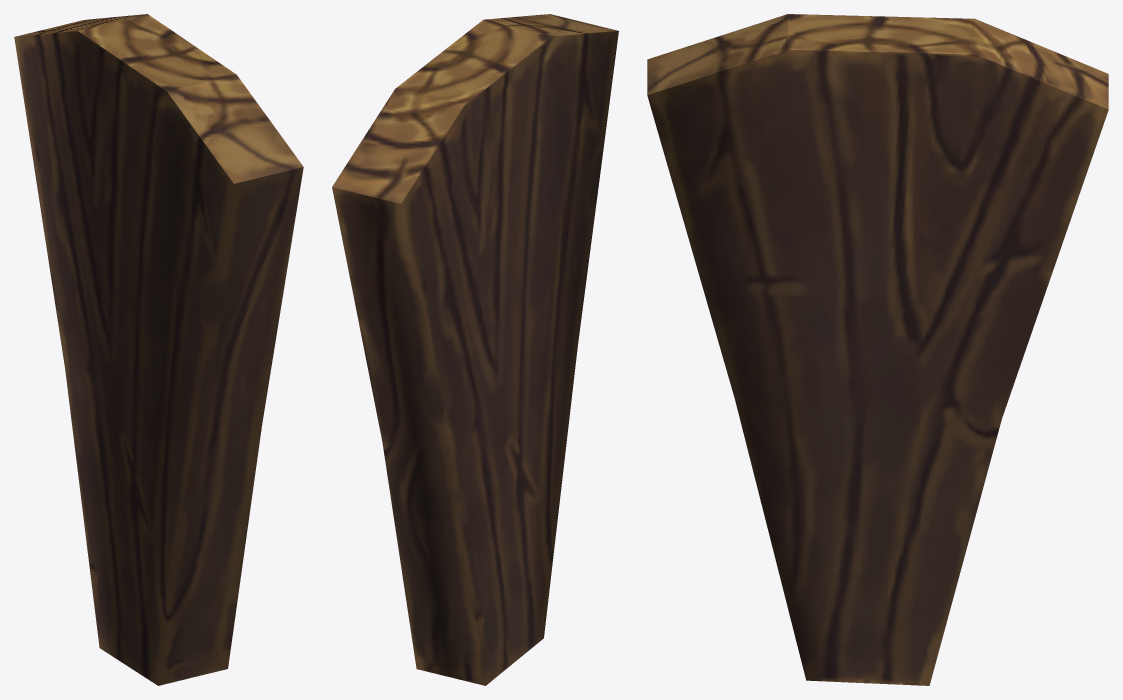
The model's file is plank3.glb.
The picture shows the model from 3 angles, left to right: view 1: azimuth 30°, elevation 25°; view 2: azimuth 150°, elevation 25°; view 3: azimuth 270°, elevation 25°; orthographic projection. The views are drawn at different scales.
Parts seen in each view (by area): view 1: planks.003; view 2: planks.003; view 3: planks.003.
Part boxes in pixels (box(x1,y1,x2,y2)): planks.003: box(14, 14, 303, 685); planks.003: box(332, 14, 618, 685); planks.003: box(647, 14, 1108, 685).
Bounding box in the file's own units: 18.7 × 155 × 102.
1 material, 1 textured.
